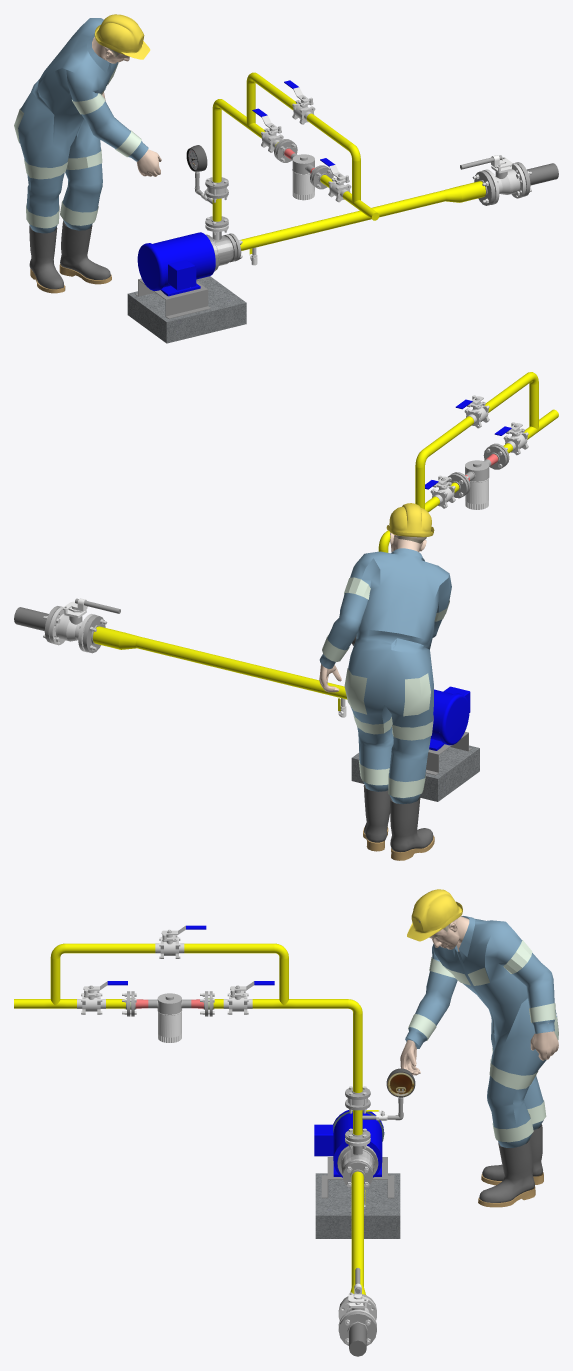
The model's file is centrifugal_pump__bomba_centrifuga_compressed.glb.
3 renders of one model, top to bottom at view 1: azimuth 30°, elevation 25°; view 2: azimuth 150°, elevation 25°; view 3: azimuth 270°, elevation 25°, orthographic. The views are drawn at different scales.
Parts seen in each view (by area): view 1: Material2 (×15), Material3 (×3); view 2: Material2 (×11), Material3; view 3: Material2 (×10), Material3 (×3).
Boxes of the visible parts, bbox=[...] form: Material2 (×15): bbox=[14, 14, 558, 343]; Material3 (×3): bbox=[135, 171, 314, 318]; Material2 (×11): bbox=[43, 372, 558, 852]; Material3: bbox=[465, 479, 488, 509]; Material2 (×10): bbox=[14, 889, 558, 1345]; Material3 (×3): bbox=[158, 1012, 394, 1198].
Size of the model in its own units: 113 by 66.84 by 107.
Materials: 44 (11 with a texture image).
